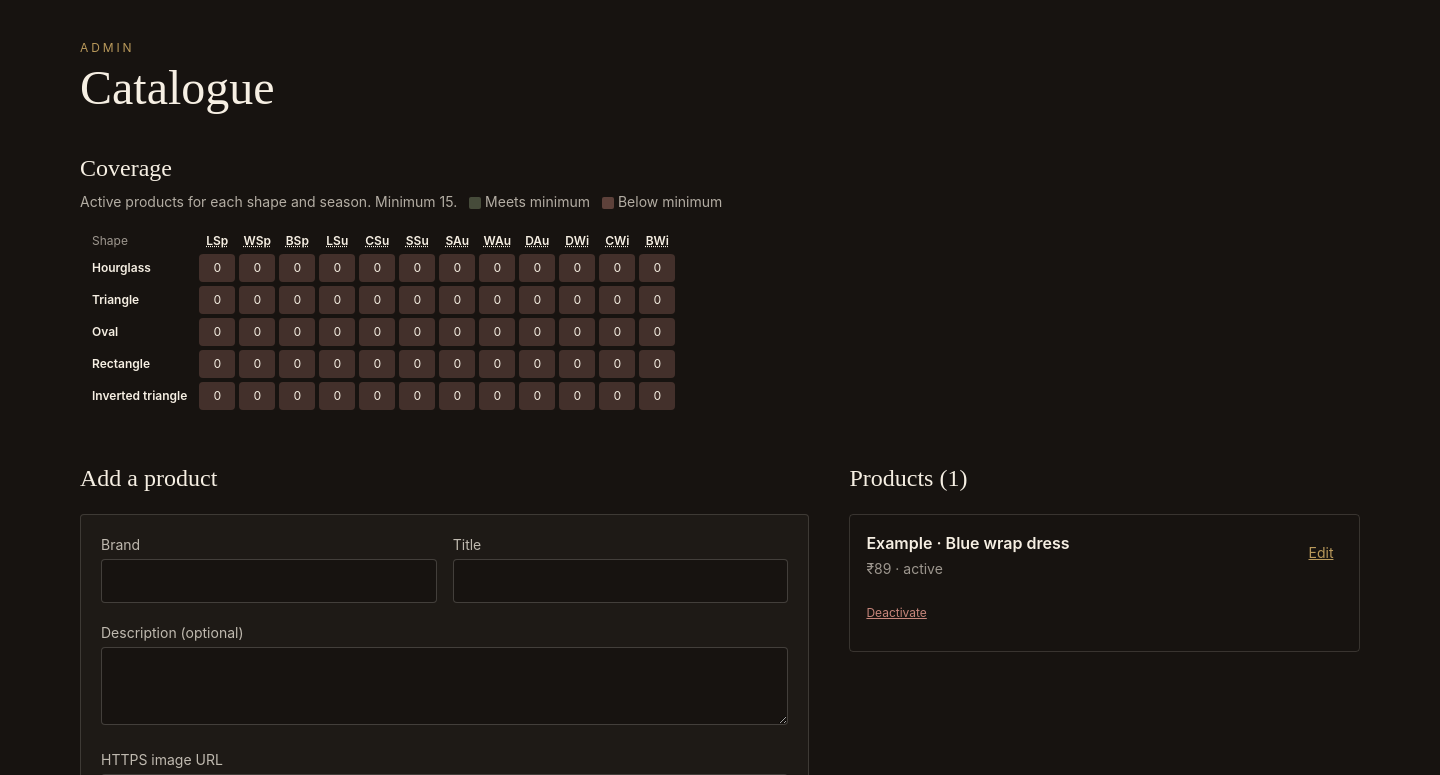
Scenario: catalogue admin interactions › moves to the form and focuses its first field when editing
What coordinates should you click on to do the following:
click the button "Edit"
I would click on:
 (1321, 553)
Its box is [1299,531,1343,575].
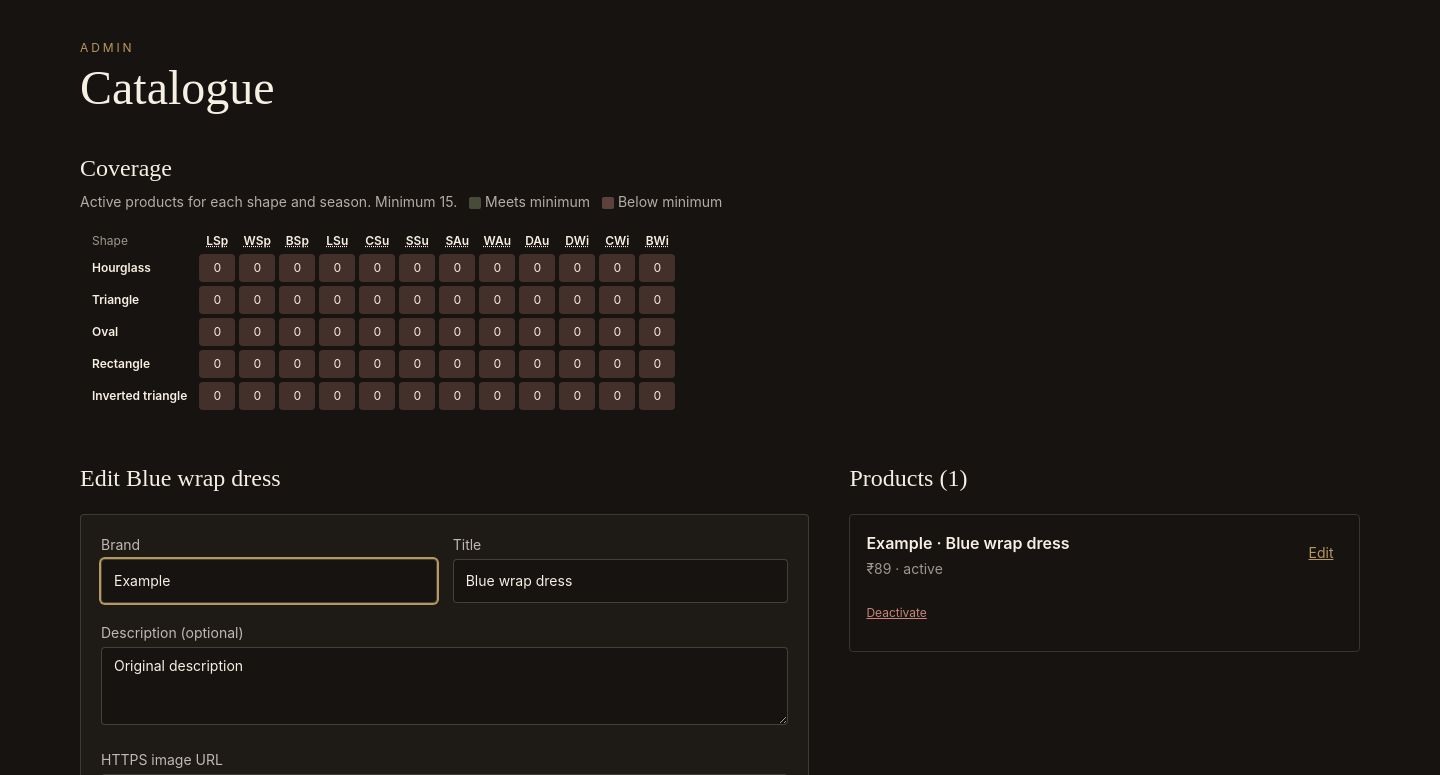
Check: the field labelled "Brand" holds "Example", box [101,559,437,603]
